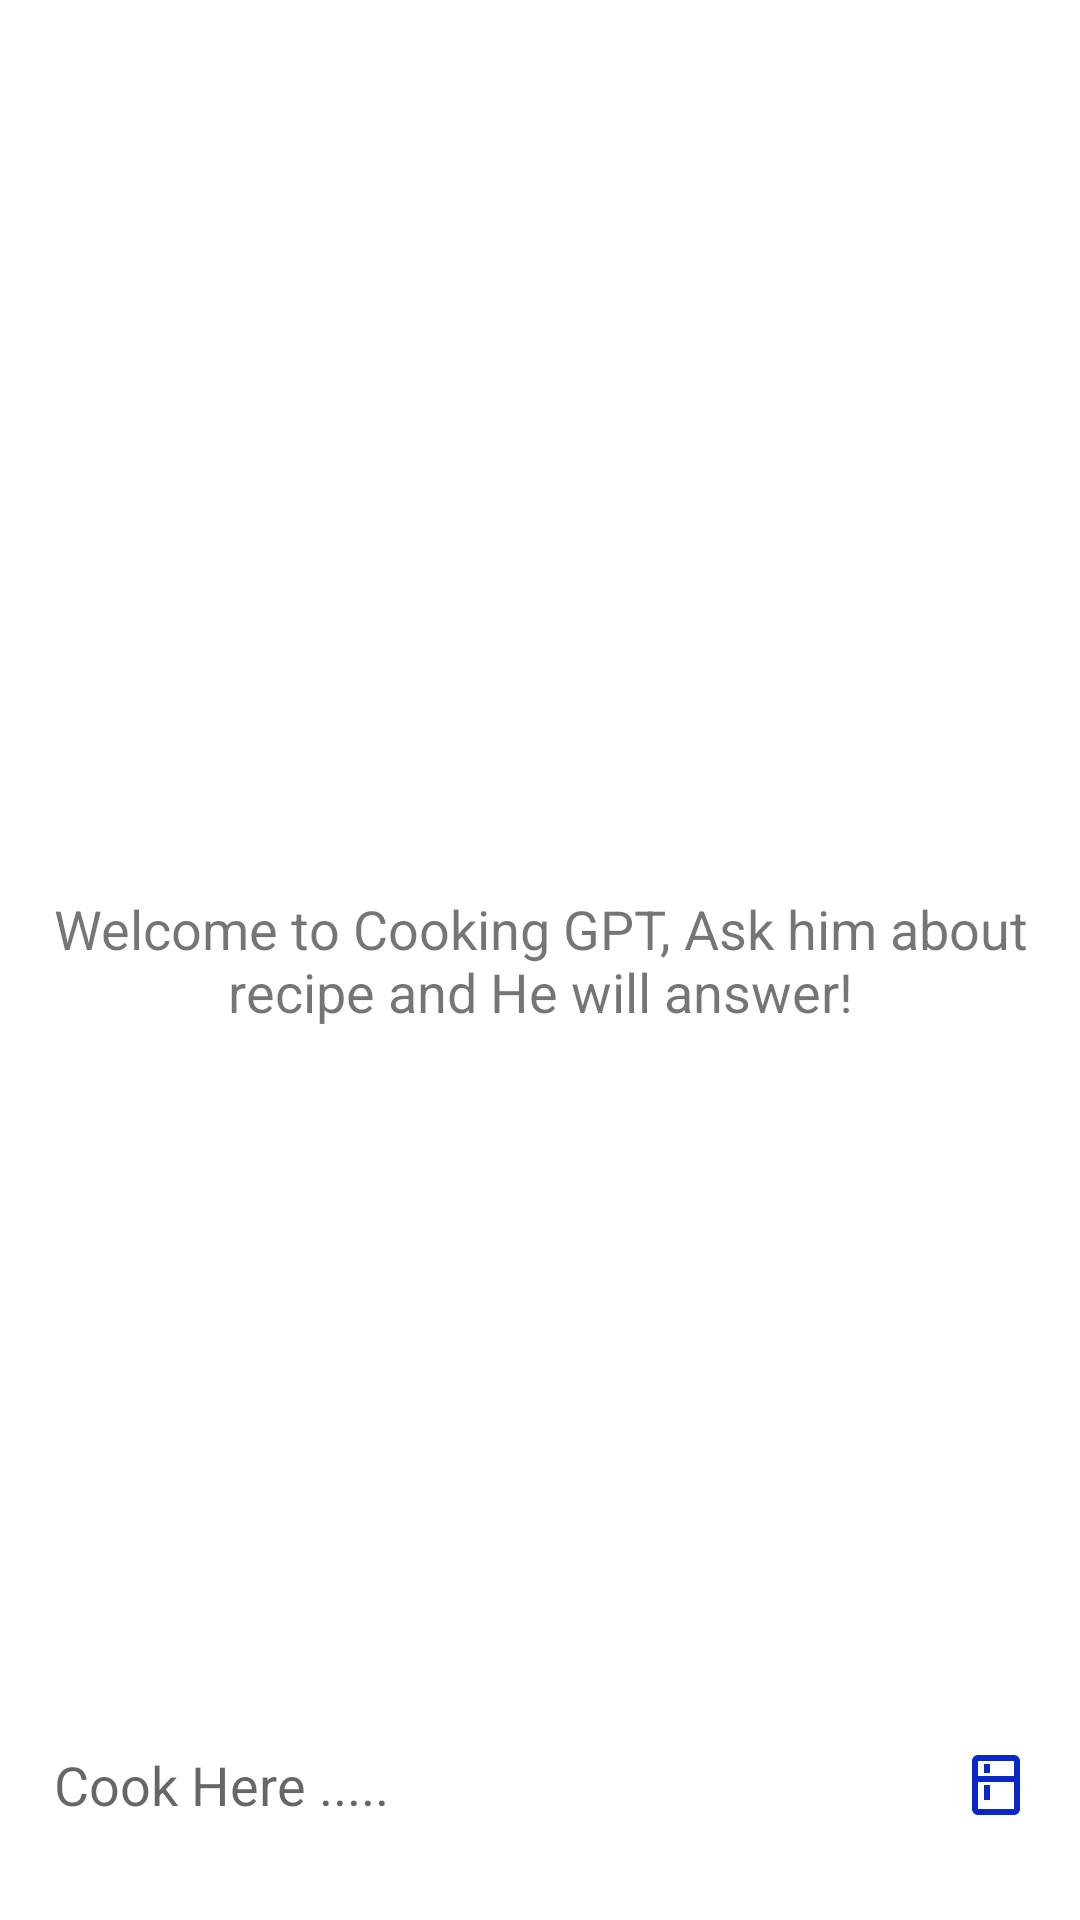

Screen size 1080px×1920px. Icon name, then its center in pixels as (x=x, y=y):
kitchen: (x=996, y=1785)
